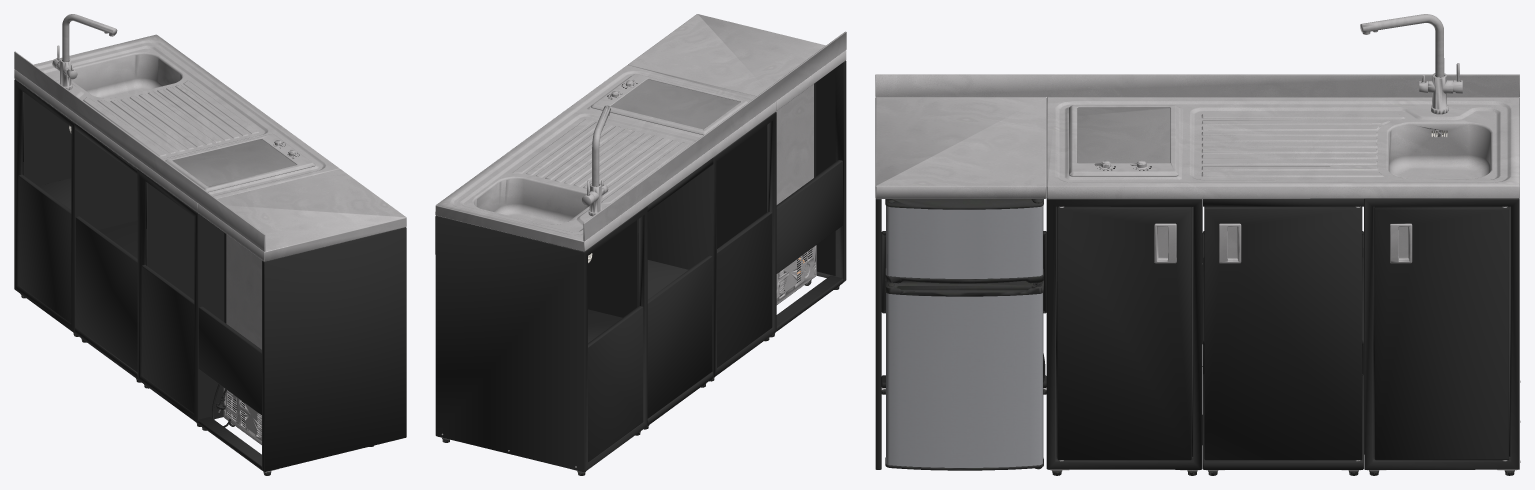
3 views of the same model, side by side, from view 1: azimuth 30°, elevation 25°; view 2: azimuth 150°, elevation 25°; view 3: azimuth 270°, elevation 25° (orthographic). The views are drawn at different scales.
Parts seen in each view (by area): view 1: refrigeratorBody_01_mesh_00 (×2), bigShelf_01_mesh_00, body_01_mesh_00; view 2: refrigeratorBody_01_mesh_00 (×2), body_01_mesh_00, bigShelf_01_mesh_00; view 3: refrigeratorBody_01_mesh_00 (×2), refrigeratorDoor_01_mesh_00 (×2), bigShelf_01_mesh_00, body_01_mesh_00.
Part boxes in pixels (left/top/right/bottom): refrigeratorBody_01_mesh_00 (×2): left=14, top=34, right=406, bottom=471; bigShelf_01_mesh_00: left=52, top=14, right=315, bottom=472; body_01_mesh_00: left=173, top=139, right=295, bottom=186; refrigeratorBody_01_mesh_00 (×2): left=435, top=14, right=846, bottom=472; body_01_mesh_00: left=611, top=80, right=739, bottom=128; bigShelf_01_mesh_00: left=438, top=74, right=815, bottom=470; refrigeratorBody_01_mesh_00 (×2): left=875, top=74, right=1520, bottom=469; refrigeratorDoor_01_mesh_00 (×2): left=881, top=199, right=1514, bottom=475; bigShelf_01_mesh_00: left=881, top=14, right=1517, bottom=470; body_01_mesh_00: left=1077, top=108, right=1169, bottom=162.
Bounding box in the file's own units: 0.6107 × 1.21 × 1.82.
Materials: 18 (6 with a texture image).
